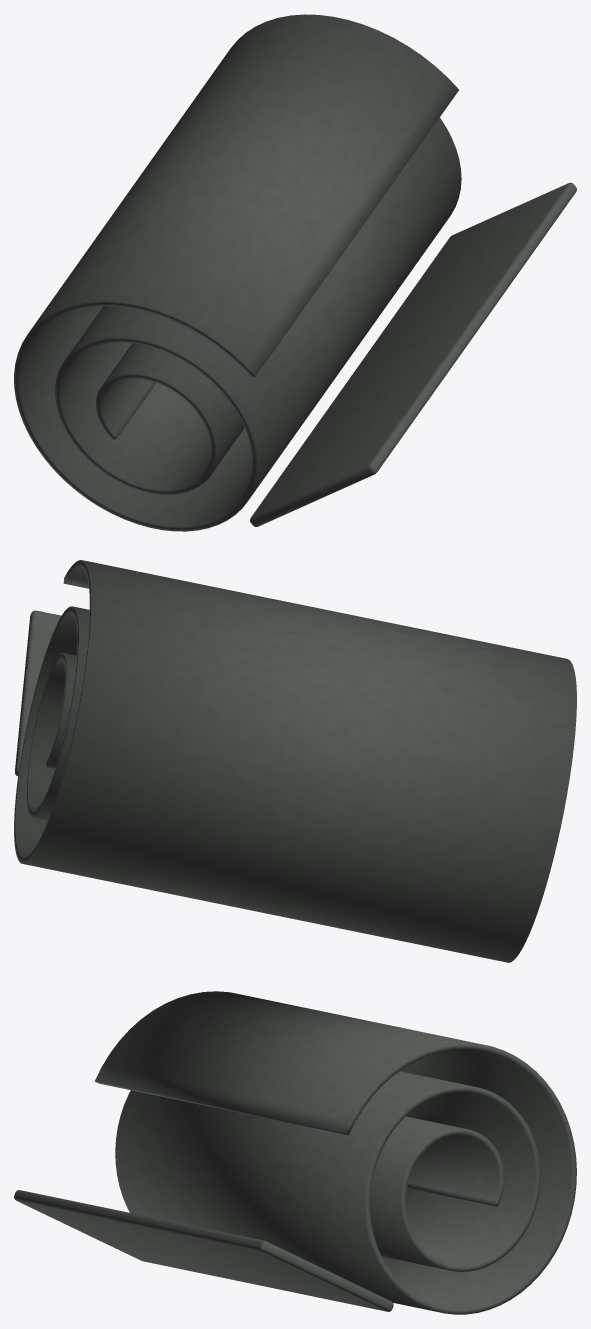
3 views of the same model, one above another, from view 1: azimuth 30°, elevation 25°; view 2: azimuth 150°, elevation 25°; view 3: azimuth 270°, elevation 25° (orthographic). The views are drawn at different scales.
Visible parts, largest first — view 1: Actual layered polymer spiral; view 2: Actual layered polymer spiral; view 3: Actual layered polymer spiral.
Boxes of the visible parts, x1,y1,x2,y2 form: Actual layered polymer spiral: [14, 14, 576, 531]; Actual layered polymer spiral: [14, 560, 576, 962]; Actual layered polymer spiral: [14, 991, 576, 1314].
Size of the model in its own units: 1.28 by 0.8343 by 1.23.
1 material, 1 textured.
